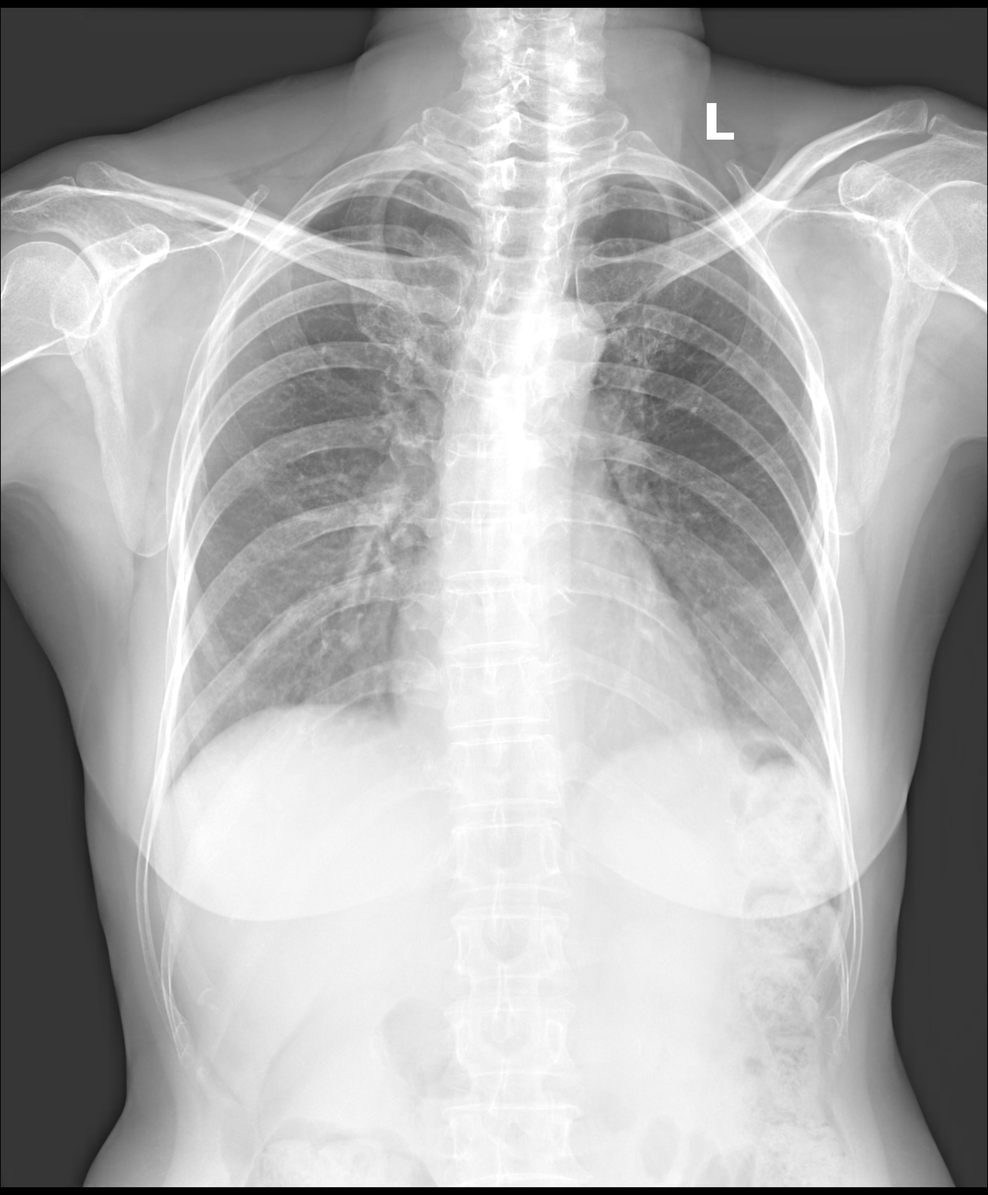Aortic enlargement: (534, 298, 604, 371)
